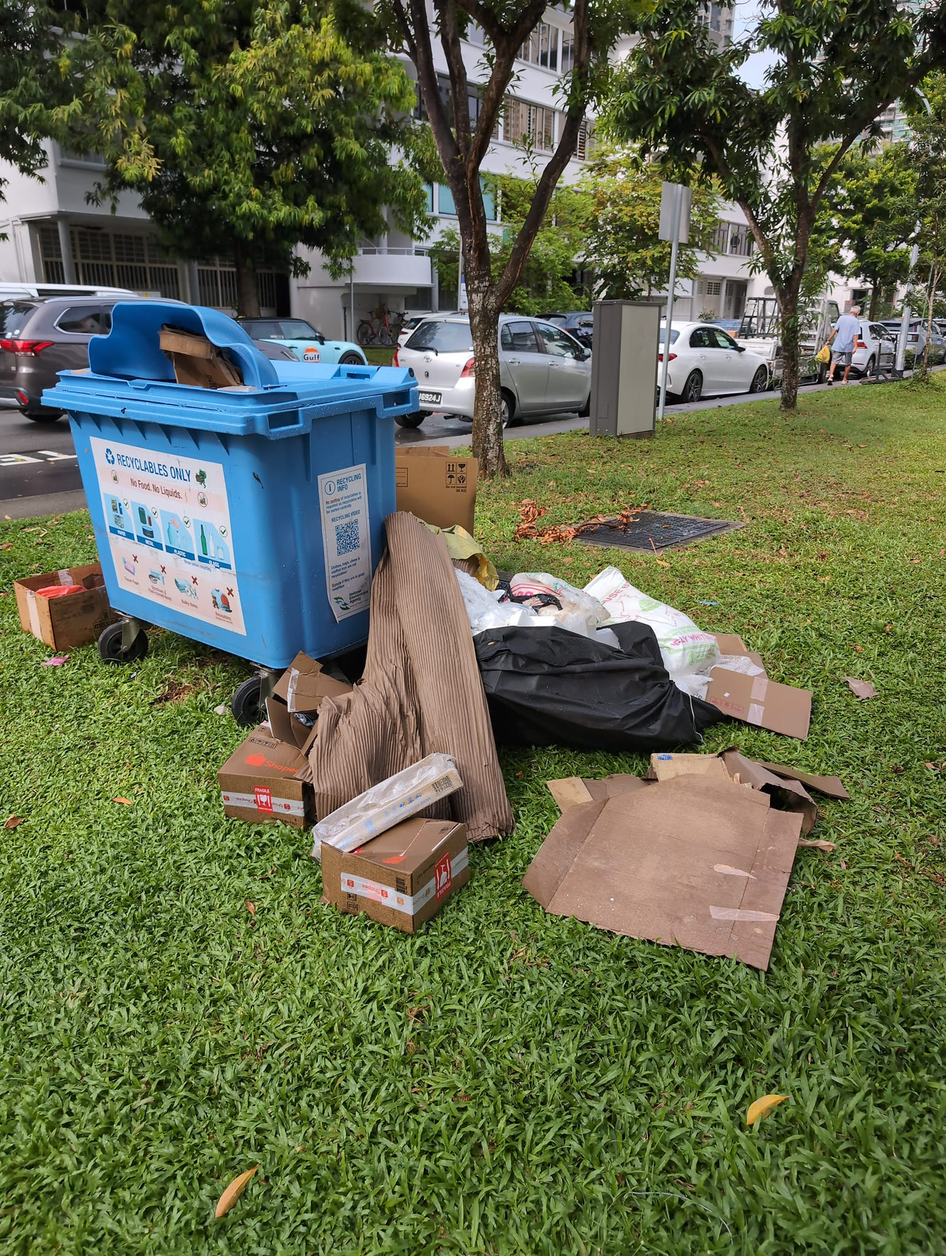bin_empty: (50, 302, 413, 667)
bulk_waste: (309, 512, 513, 841), (523, 773, 801, 969), (473, 622, 725, 754), (321, 816, 469, 933), (218, 726, 313, 829), (15, 562, 117, 651), (396, 446, 477, 533)
vehicle: (0, 292, 128, 423), (499, 315, 590, 425), (667, 321, 769, 401), (399, 316, 475, 421), (238, 316, 366, 364)
